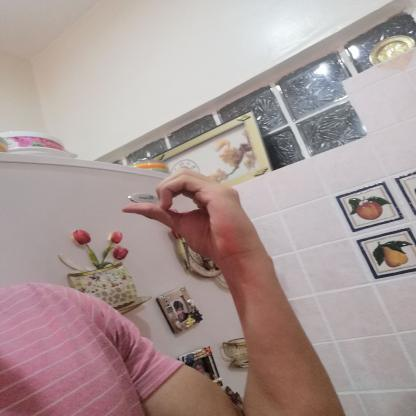WAW: (108, 160, 269, 270)
